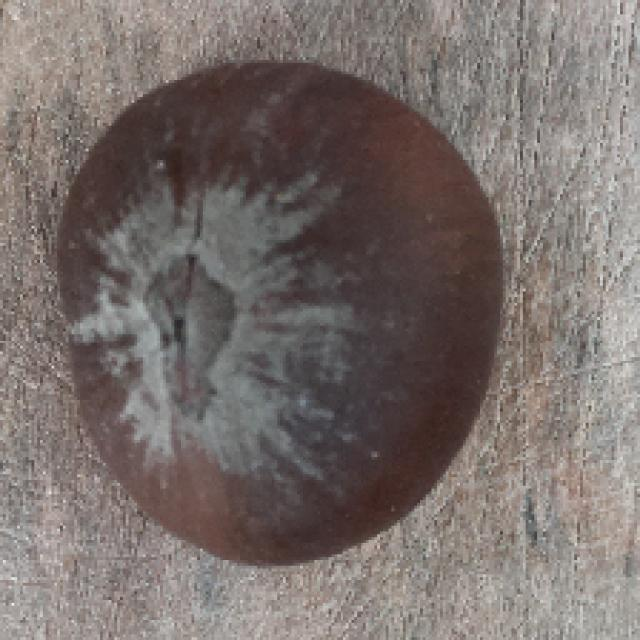damagedHazelnut: (51, 57, 505, 570)
